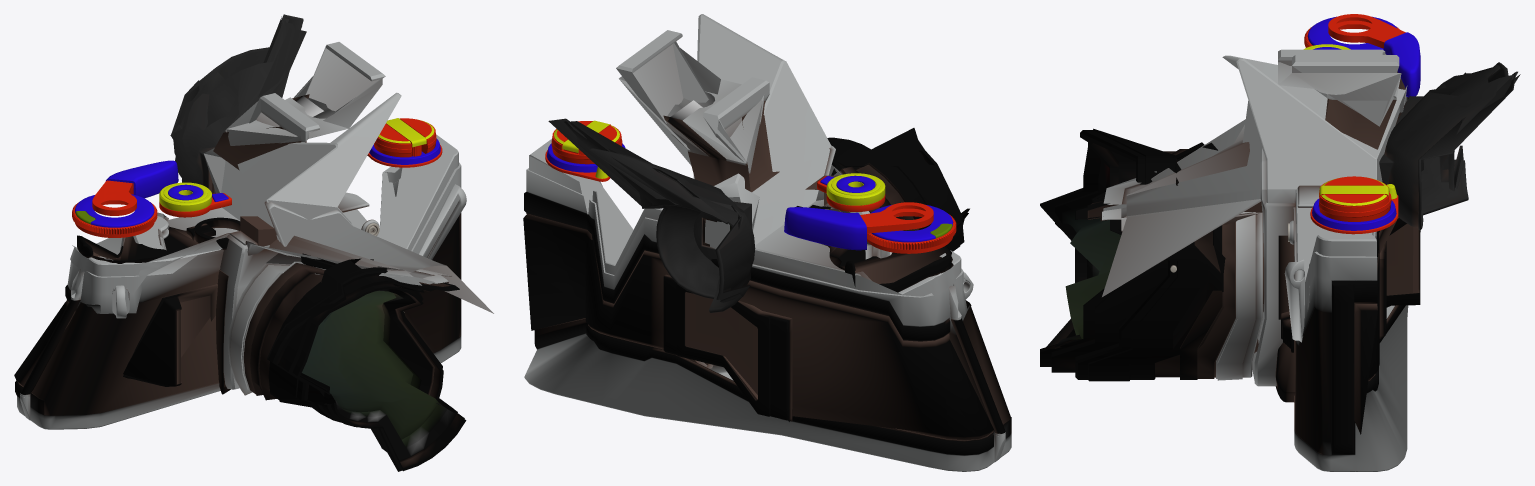
File: FilmCamera.glb
3 renders of one model, left to right at view 1: azimuth 30°, elevation 25°; view 2: azimuth 150°, elevation 25°; view 3: azimuth 270°, elevation 25°, orthographic. The views are drawn at different scales.
Parts seen in each view (by area): view 1: #CAM0001_Body, #CAM0001_Film_Advance, #CAM0001_Shutter_Speed, #CAM0001_Spool, #CAM0001_Shutter, #CAM0001_Battery_Check; view 2: #CAM0001_Body, #CAM0001_Film_Advance, #CAM0001_Shutter_Speed, #CAM0001_Shutter, #CAM0001_Spool, #CAM0001_Battery_Check; view 3: #CAM0001_Body, #CAM0001_Film_Advance, #CAM0001_Spool, #CAM0001_Battery_Check, #CAM0001_Shutter_Speed.
Boxes of the visible parts, left/top/right/bottom form: #CAM0001_Body: left=14, top=14, right=493, bottom=471; #CAM0001_Film_Advance: left=92, top=160, right=178, bottom=215; #CAM0001_Shutter_Speed: left=72, top=194, right=157, bottom=237; #CAM0001_Spool: left=374, top=118, right=436, bottom=157; #CAM0001_Shutter: left=159, top=182, right=231, bottom=217; #CAM0001_Battery_Check: left=367, top=138, right=442, bottom=167; #CAM0001_Body: left=523, top=14, right=1011, bottom=471; #CAM0001_Film_Advance: left=784, top=202, right=933, bottom=250; #CAM0001_Shutter_Speed: left=867, top=204, right=956, bottom=253; #CAM0001_Shutter: left=817, top=173, right=885, bottom=211; #CAM0001_Spool: left=551, top=120, right=622, bottom=164; #CAM0001_Battery_Check: left=545, top=143, right=625, bottom=181; #CAM0001_Body: left=1040, top=49, right=1520, bottom=471; #CAM0001_Film_Advance: left=1328, top=14, right=1420, bottom=97; #CAM0001_Spool: left=1319, top=176, right=1391, bottom=221; #CAM0001_Battery_Check: left=1310, top=184, right=1398, bottom=234; #CAM0001_Shutter_Speed: left=1304, top=16, right=1399, bottom=49.
Bounding box in the file's own units: 0.1583 × 0.1083 × 0.1317.
